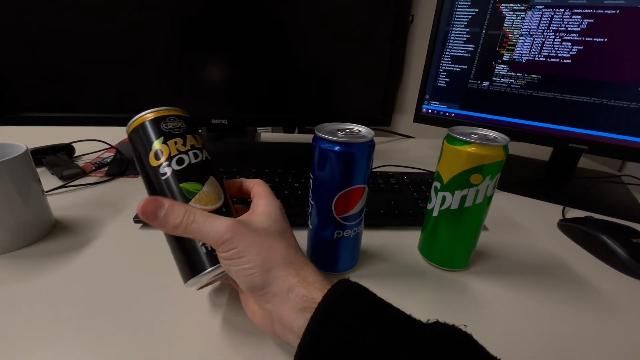OranSoda: (124, 105, 236, 293)
Pepsi: (304, 120, 378, 276)
Sprite: (415, 122, 511, 274)
